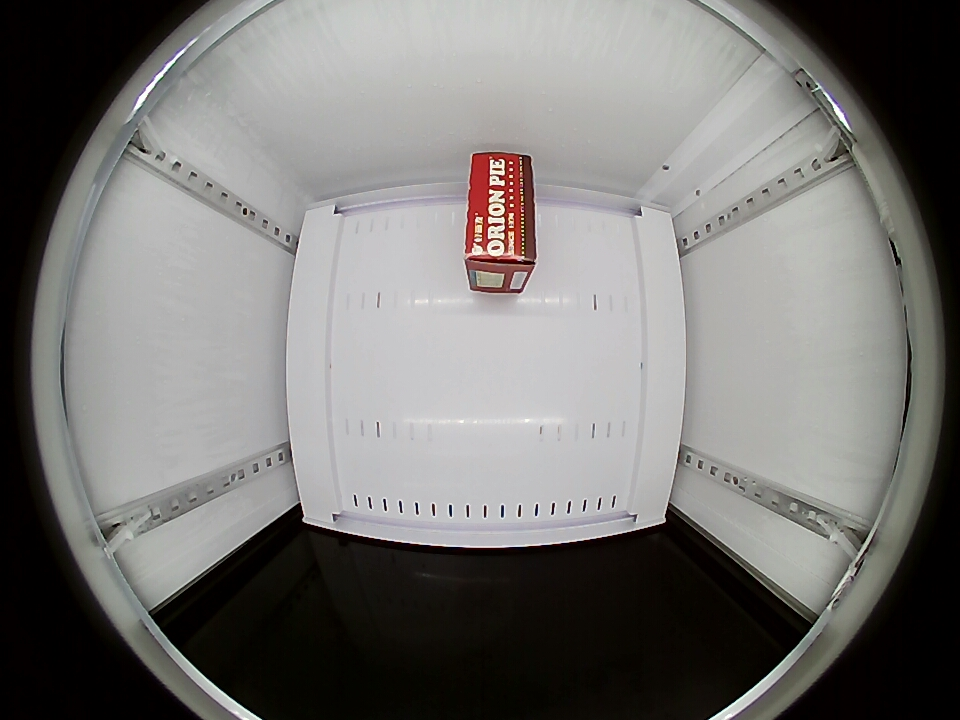haoliyou: (465, 150, 537, 289)
